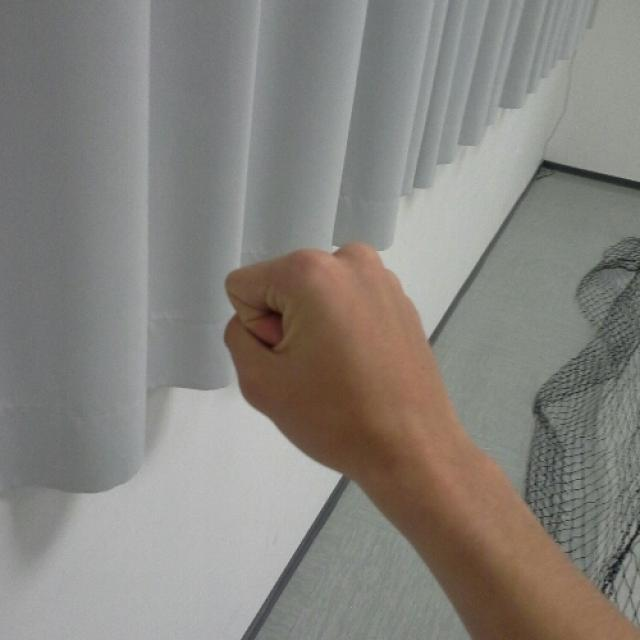fist: (224, 242, 456, 471)
